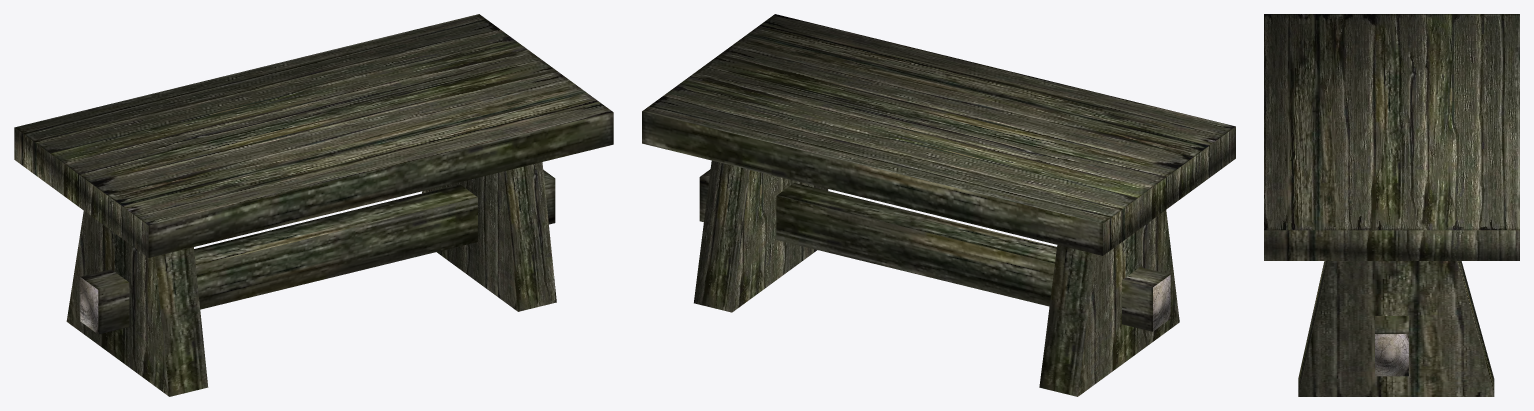
The model's file is OC_TABLE_V1.glb.
The picture shows the model from 3 angles, left to right: view 1: azimuth 30°, elevation 25°; view 2: azimuth 150°, elevation 25°; view 3: azimuth 270°, elevation 25°; orthographic projection. The views are drawn at different scales.
Visible parts, largest first — view 1: Mesh; view 2: Mesh; view 3: Mesh.
Boxes of the visible parts, x1,y1,x2,y2 form: Mesh: (14, 14, 613, 396); Mesh: (642, 14, 1235, 396); Mesh: (1264, 14, 1519, 396).
Size of the model in its own units: 2.14 by 0.8542 by 1.07.
2 materials, 2 textured.
